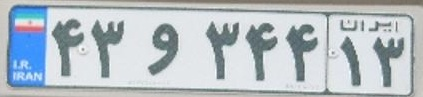character: (196, 15, 242, 81), (137, 17, 185, 78), (283, 17, 324, 86), (48, 14, 89, 81), (88, 14, 129, 81), (243, 17, 282, 86), (368, 32, 408, 90), (334, 35, 367, 90)
